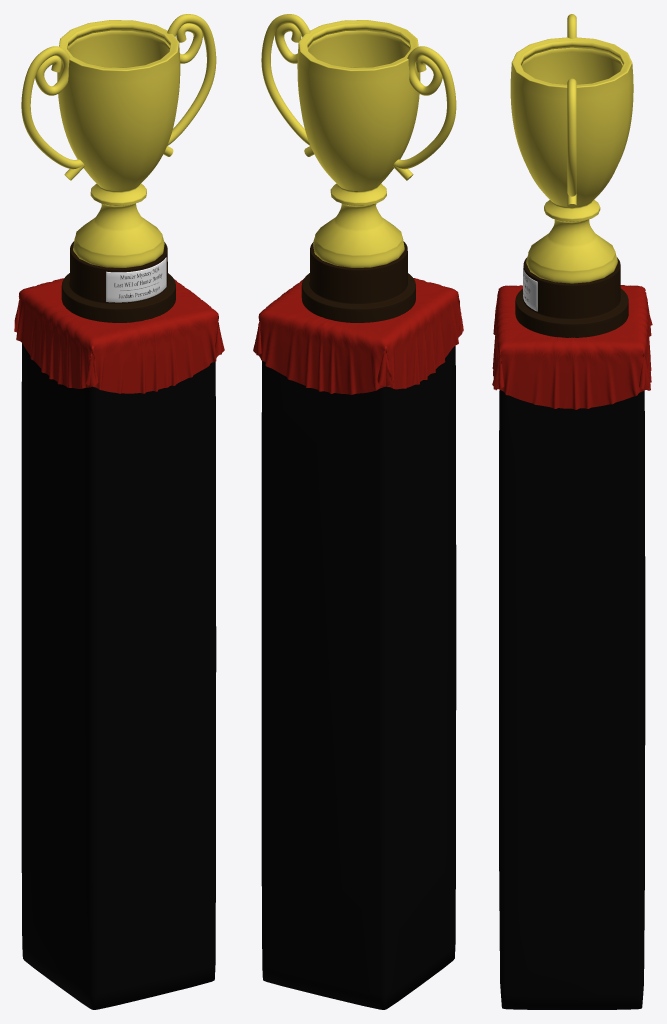
File: trophyOld.gltf
3 renders of one model, left to right at view 1: azimuth 30°, elevation 25°; view 2: azimuth 150°, elevation 25°; view 3: azimuth 270°, elevation 25°, orthographic.
Parts seen in each view (by area): view 1: Cube, Trophy, Circle, TrophyHandle, Base, Marble; view 2: Cube, Trophy, Circle, Base, TrophyHandle; view 3: Cube, Trophy, Circle, Base, TrophyHandle, Marble.
Boxes of the visible parts, box(x1,y1,x2,y2) form: Cube: box(21, 343, 216, 1009); Trophy: box(57, 20, 180, 267); Circle: box(14, 278, 224, 393); TrophyHandle: box(21, 14, 216, 180); Base: box(61, 241, 175, 322); Marble: box(106, 257, 166, 302); Cube: box(261, 346, 456, 1009); Trophy: box(297, 20, 420, 267); Circle: box(253, 278, 463, 394); Base: box(301, 241, 415, 322); TrophyHandle: box(261, 14, 456, 180); Cube: box(499, 390, 645, 1009); Trophy: box(510, 37, 633, 283); Circle: box(492, 285, 652, 409); Base: box(515, 257, 628, 337); TrophyHandle: box(567, 14, 576, 208); Marble: box(523, 266, 537, 311).
Bounding box in the file's own units: 3.02 × 14.05 × 2.19.
Materials: 5 (1 with a texture image).
